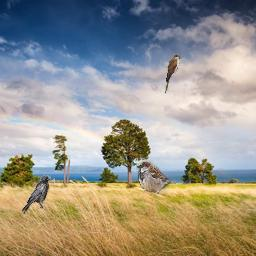Crow: (22, 175, 51, 215)
Cuckoo: (165, 54, 180, 94)
Sparrow: (136, 160, 176, 196)
